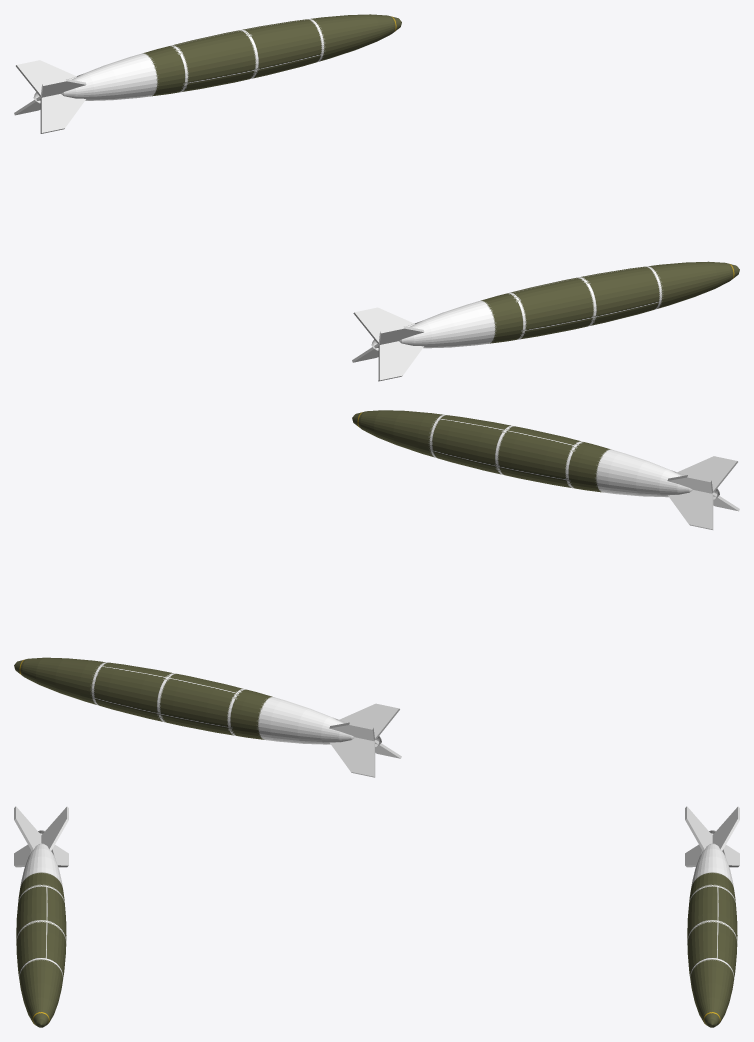
Rendered from rafalegbu31141.glb.
3 views of the same model, one above another, from view 1: azimuth 30°, elevation 25°; view 2: azimuth 150°, elevation 25°; view 3: azimuth 270°, elevation 25° (orthographic).
Parts seen in each view (by area): view 1: 立方体.001, 立方体.004; view 2: 立方体.004, 立方体.001; view 3: 立方体.004, 立方体.001.
Boxes of the visible parts, x1,y1,x2,y2 form: 立方体.001: [14, 14, 401, 133]; 立方体.004: [352, 261, 739, 381]; 立方体.004: [352, 410, 739, 529]; 立方体.001: [14, 657, 401, 777]; 立方体.004: [14, 806, 68, 1027]; 立方体.001: [685, 806, 739, 1027].
Bounding box in the file's own units: 3.81 × 0.5456 × 6.45.
1 material, 1 textured.
